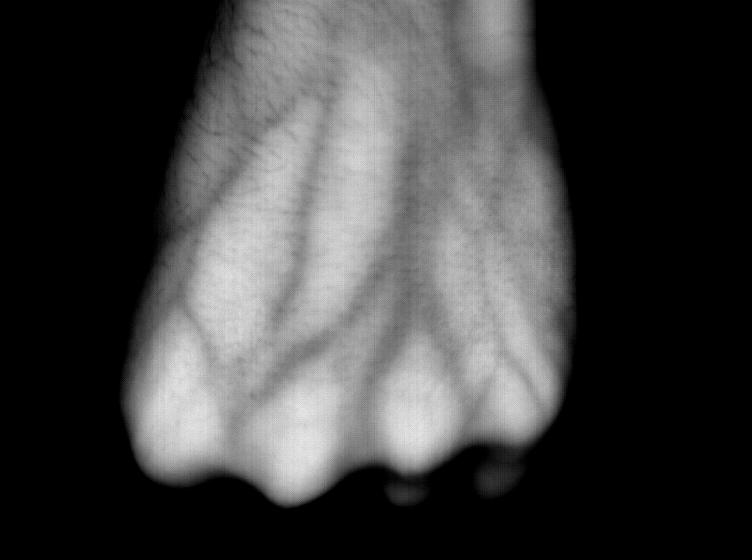Vein: (272, 127, 475, 413), (194, 54, 353, 330)
